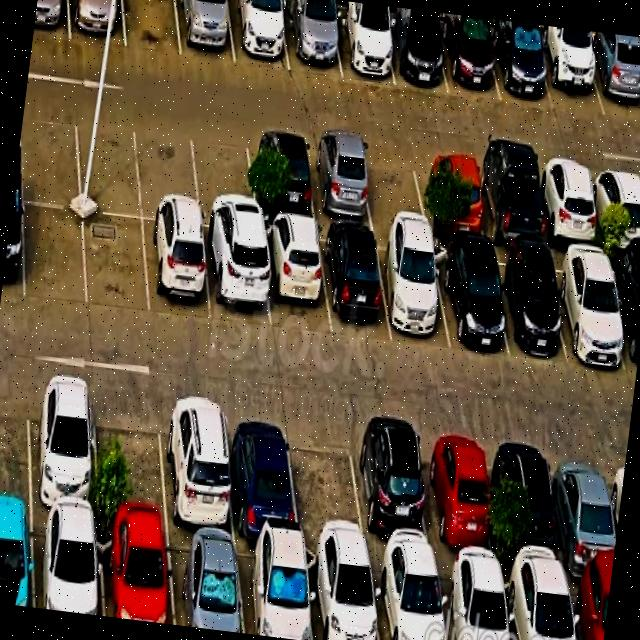empty: (287, 413, 366, 552), (94, 385, 168, 528), (190, 123, 257, 233), (75, 108, 141, 217), (136, 116, 200, 224), (84, 211, 149, 317), (23, 203, 87, 306), (19, 101, 80, 207), (359, 142, 427, 229), (0, 374, 30, 508), (122, 0, 181, 55)
occupied: (349, 420, 434, 560), (418, 426, 496, 568), (160, 394, 234, 536), (224, 403, 299, 541), (494, 433, 566, 574), (28, 376, 98, 518), (549, 440, 616, 578), (549, 250, 627, 367), (431, 243, 508, 356), (375, 233, 450, 349), (487, 248, 566, 357), (318, 226, 391, 338), (260, 220, 330, 334), (166, 531, 244, 633), (98, 522, 173, 624), (236, 540, 312, 640), (32, 512, 103, 616), (304, 547, 379, 640), (142, 220, 211, 321), (202, 229, 270, 329), (473, 155, 546, 248), (247, 130, 316, 221), (417, 149, 486, 239), (370, 558, 445, 640), (306, 136, 373, 225), (535, 30, 604, 115), (436, 562, 510, 640), (535, 161, 601, 248), (488, 21, 552, 108), (437, 16, 500, 100), (501, 569, 575, 640), (383, 14, 447, 93), (582, 35, 640, 120), (331, 7, 394, 84), (589, 165, 640, 252), (282, 1, 341, 75), (227, 0, 289, 70), (607, 255, 640, 374), (176, 0, 234, 63), (0, 510, 33, 607), (566, 574, 611, 640), (68, 0, 125, 46), (0, 197, 23, 300), (33, 0, 70, 39)
